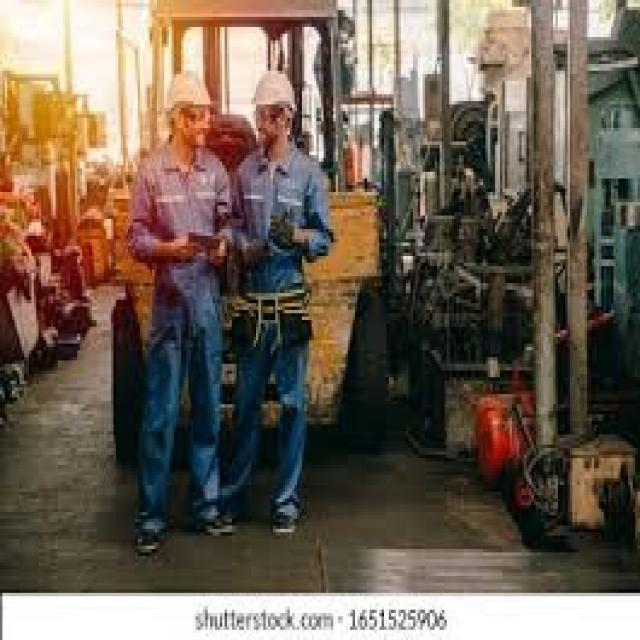reflective_jacket: (116, 138, 239, 320), (226, 138, 333, 343)
safety_helmet: (157, 60, 220, 124), (246, 60, 301, 121)
